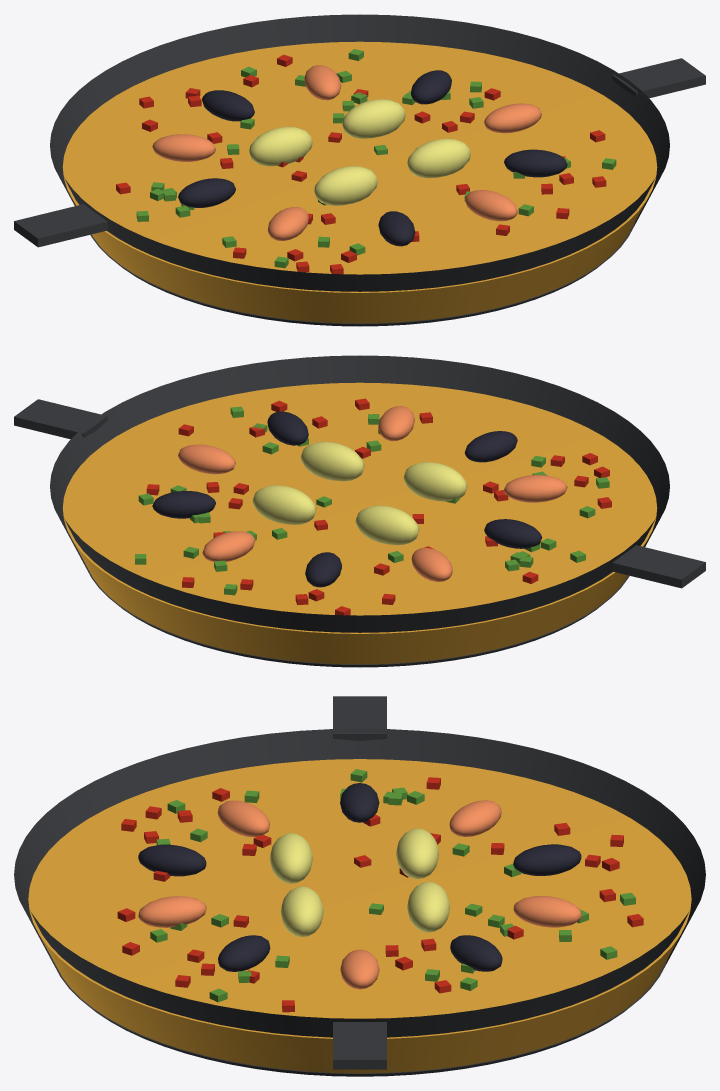
File: paella.glb
3 renders of one model, top to bottom at view 1: azimuth 30°, elevation 25°; view 2: azimuth 150°, elevation 25°; view 3: azimuth 270°, elevation 25°, orthographic. The views are drawn at different scales.
Visible parts, largest first — view 1: paella; view 2: paella; view 3: paella.
Part boxes in pixels (x1,y1,x2,y2): paella: [14, 14, 705, 326]; paella: [14, 355, 705, 667]; paella: [14, 696, 705, 1076].
Bounding box in the file's own units: 0.48 × 0.052 × 0.386.
